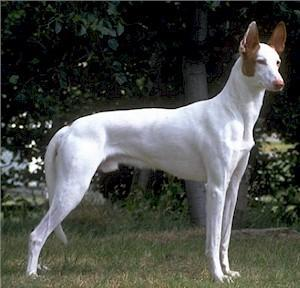Ibizan_hound: (22, 17, 290, 286)
